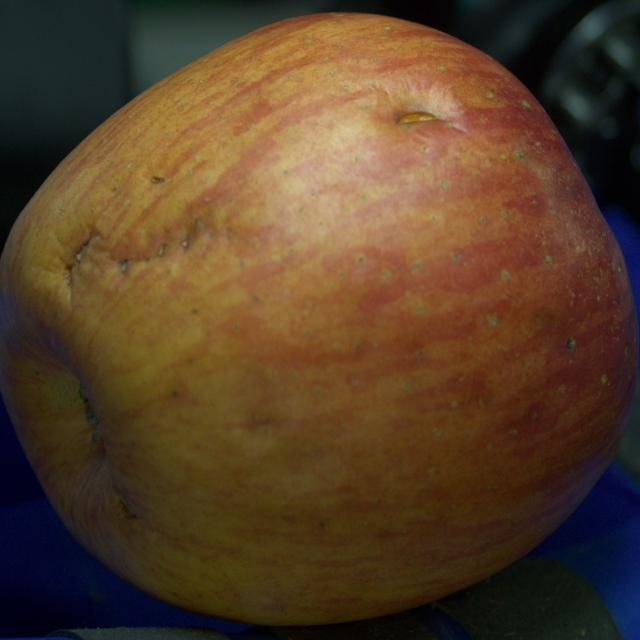apple: (0, 12, 639, 624)
bruise: (372, 81, 473, 145)
pest: (568, 339, 576, 349)
scratch: (61, 225, 105, 302), (117, 491, 136, 517), (400, 112, 436, 123), (157, 244, 168, 256), (118, 260, 128, 272), (151, 176, 164, 184), (181, 239, 188, 248)
